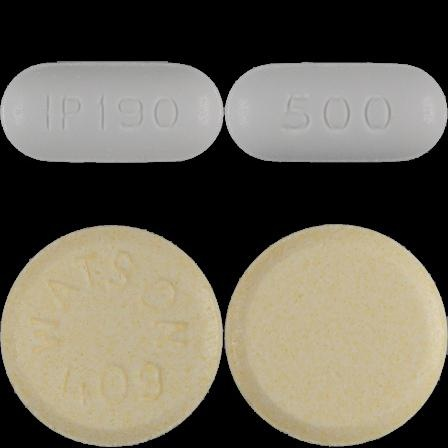61786-961: (0, 0, 224, 224)
